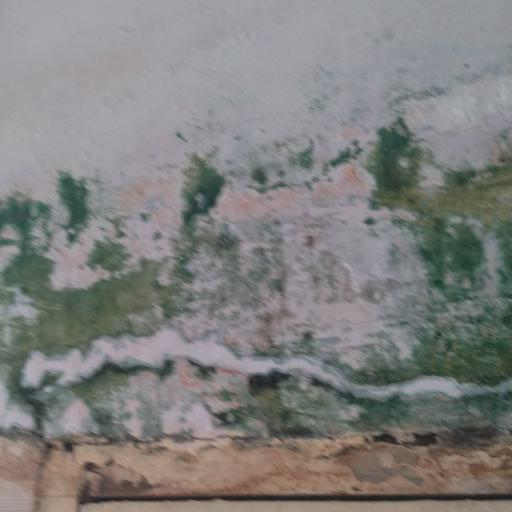algae: (1, 119, 512, 478)
